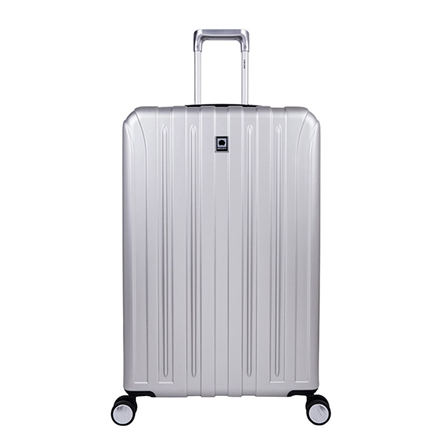suitcase: (106, 29, 333, 430)
